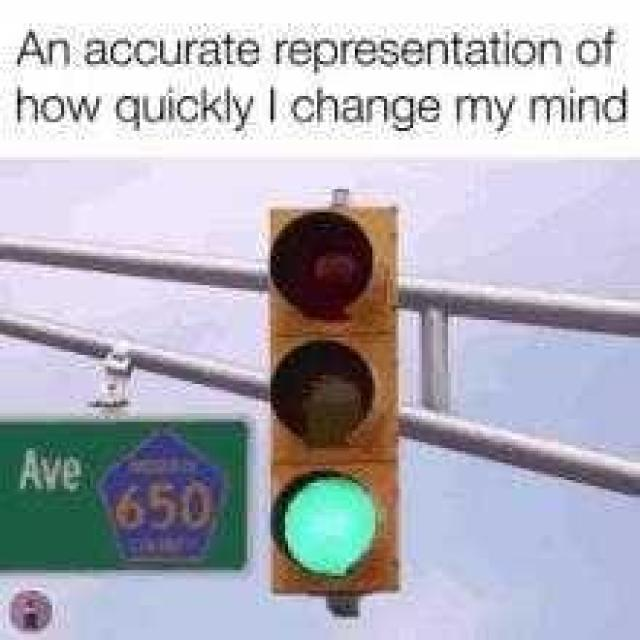Traffic Light -Green-: (250, 195, 404, 599)
